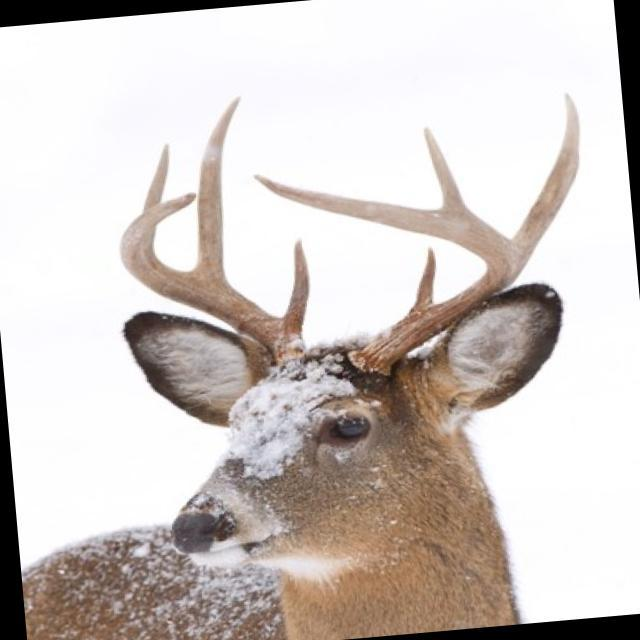L-F: (252, 173, 517, 371)
L-G1: (414, 246, 436, 306)
L-G2: (511, 92, 580, 277)
L-G3: (423, 126, 468, 211)
R-F: (118, 192, 305, 364)
R-G1: (279, 237, 310, 329)
R-G2: (192, 94, 241, 280)
